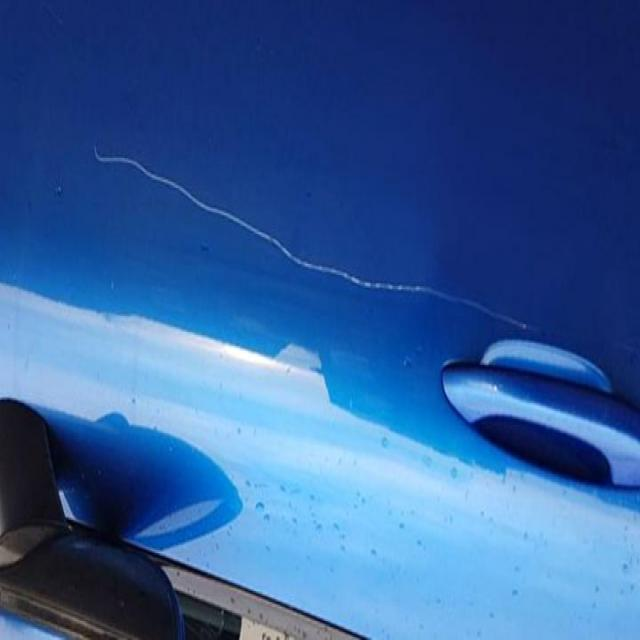scratch: (84, 130, 548, 357)
